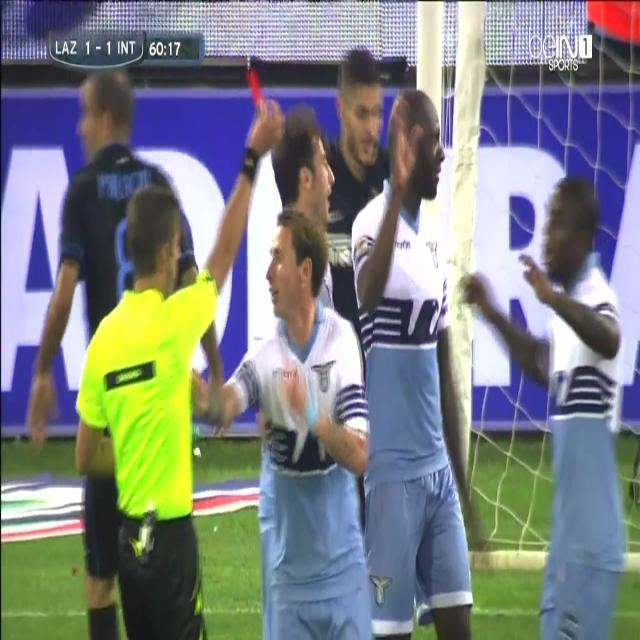Player: (456, 169, 630, 636), (350, 88, 478, 638), (211, 214, 376, 640), (25, 76, 155, 313), (322, 43, 393, 330), (270, 97, 338, 235)
Referee: (72, 105, 282, 640)
